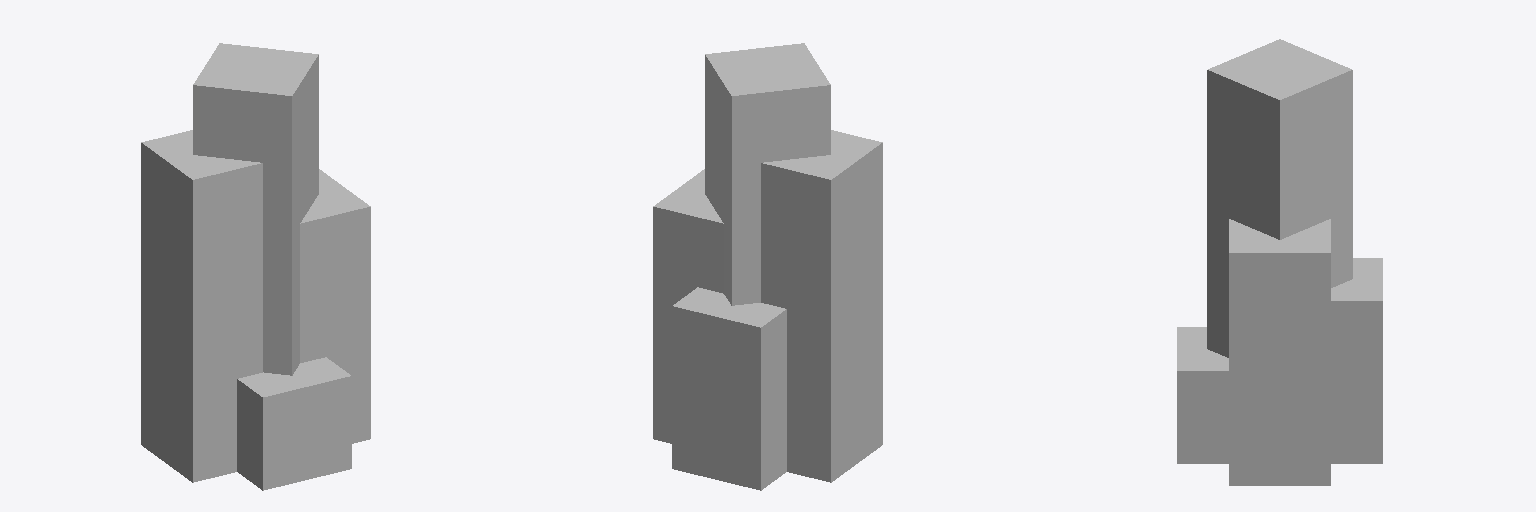
The model's file is stones_dripstone_2.obj.
The picture shows the model from 3 angles: view 1: azimuth 30°, elevation 25°; view 2: azimuth 150°, elevation 25°; view 3: azimuth 270°, elevation 25°; orthographic projection.
Visible parts, largest first — view 1: dripstone_1; view 2: dripstone_1; view 3: dripstone_1.
Boxes of the visible parts, x1,y1,x2,y2 form: dripstone_1: [141, 43, 370, 490]; dripstone_1: [653, 43, 882, 490]; dripstone_1: [1177, 39, 1382, 485].
Size of the model in its own units: 0.5 by 1 by 0.5.